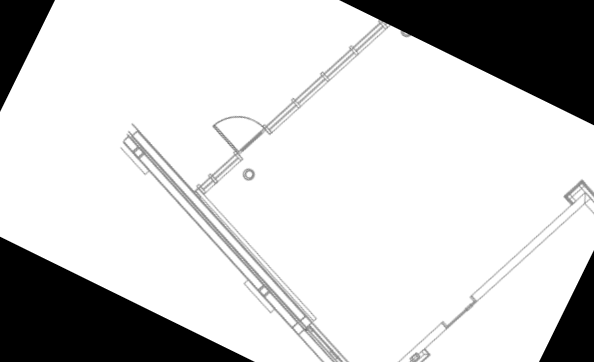door: (203, 102, 270, 164)
window: (437, 283, 485, 340)
